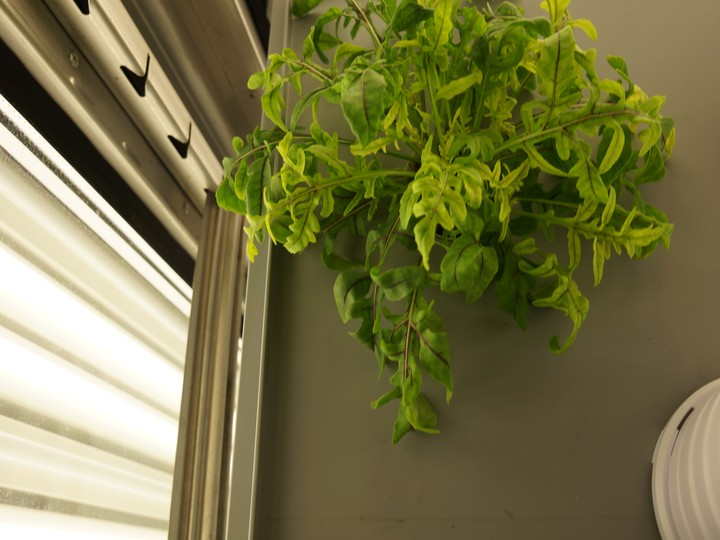roquette_sauvage_red_veined: (211, 1, 687, 445)
